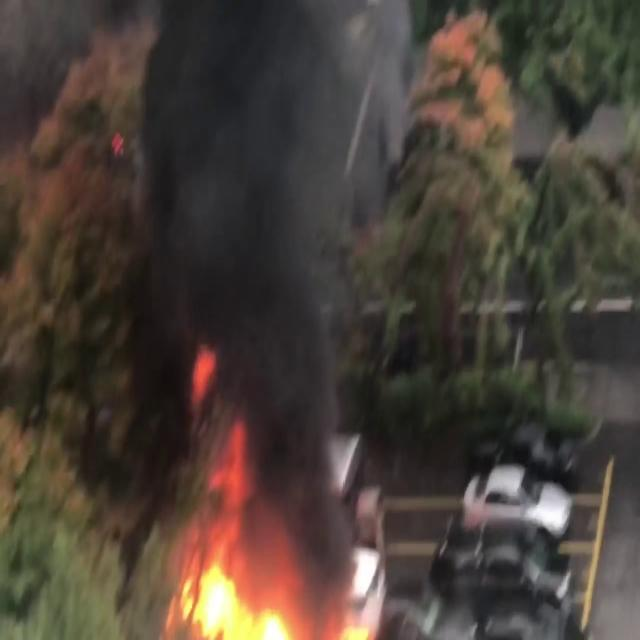Fire: (176, 545, 380, 640)
Smoke: (110, 0, 394, 544)
